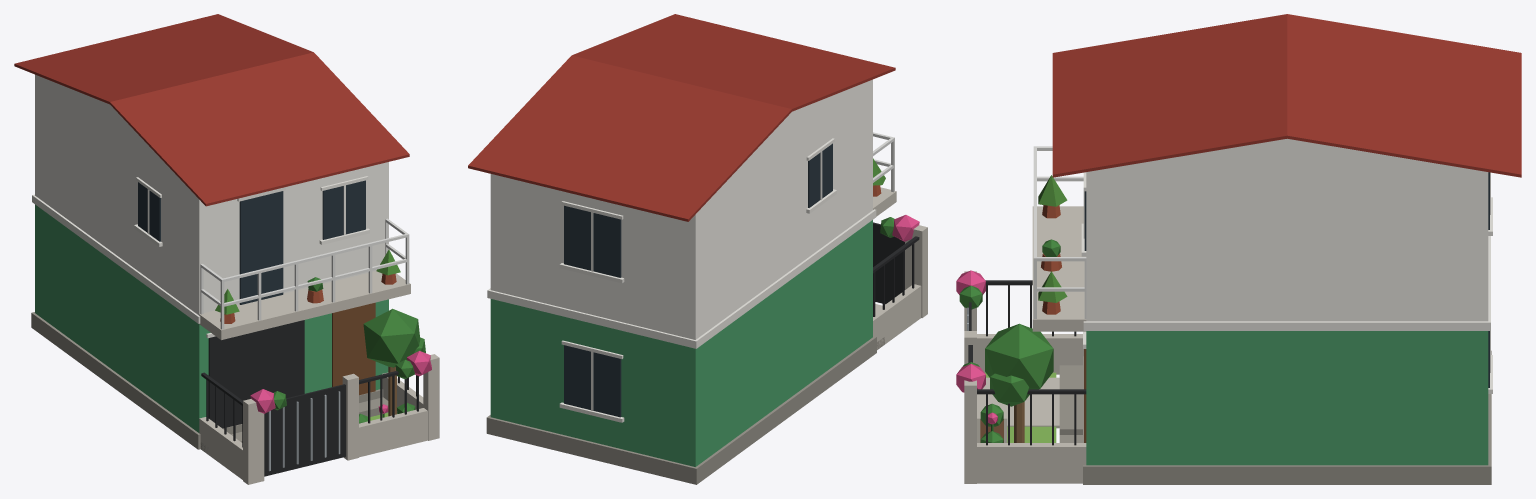
Rendered from BAY_F_TwoStorey_R.glb.
3 renders of one model, left to right at view 1: azimuth 30°, elevation 25°; view 2: azimuth 150°, elevation 25°; view 3: azimuth 270°, elevation 25°, orthographic. The views are drawn at different scales.
Visible parts, largest first — view 1: BAY_F_TwoStorey_R; view 2: BAY_F_TwoStorey_R; view 3: BAY_F_TwoStorey_R.
Part boxes in pixels (box(x1,y1,x2,y2)): BAY_F_TwoStorey_R: box(14, 14, 439, 484); BAY_F_TwoStorey_R: box(468, 14, 927, 484); BAY_F_TwoStorey_R: box(956, 14, 1521, 484).
Bounding box in the file's own units: 4.3 × 5.8 × 8.44.
Materials: 1 (1 with a texture image).
